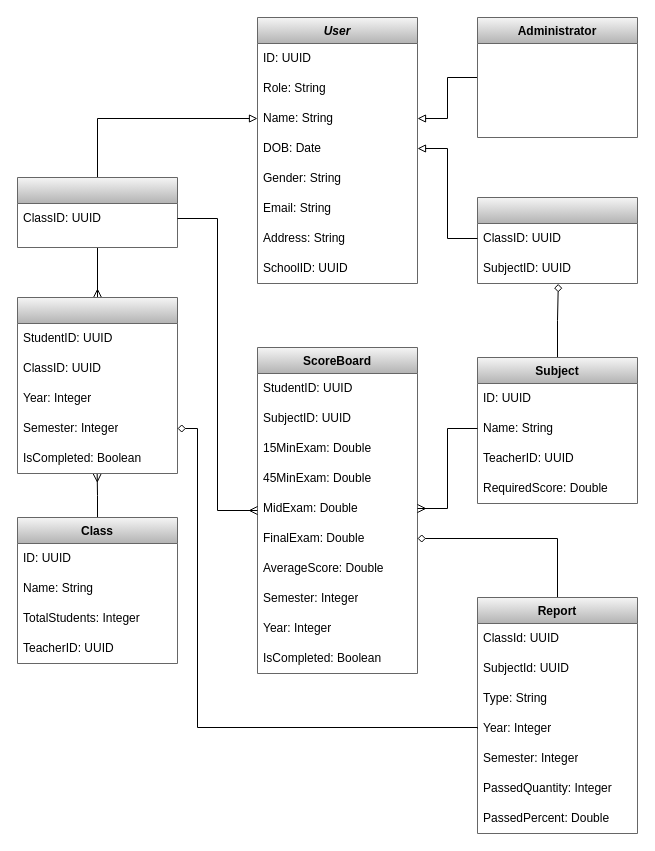
This 655x851 diagram has some shape labels left out. The box of each missing label's shape, as (x1, y1, x2, y2) in pixels:
Student: (16, 176, 178, 248)
Student_Class: (16, 296, 178, 474)
Teacher: (476, 196, 638, 284)
